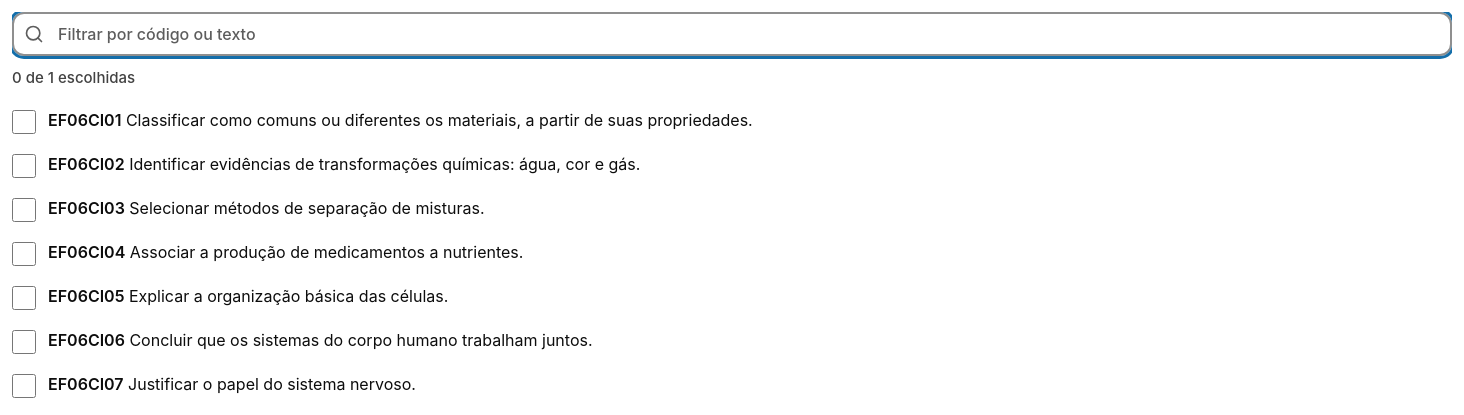
Test: a lista e o teto › o teto é o que quem usa a peça diz: com `maximo` 1 (a troca da questão), a segunda caixa bloqueia
Click the checkbox labelled "EF06CI03 Selecionar métodos de separação de misturas.": (24, 210) [12,198,36,222]
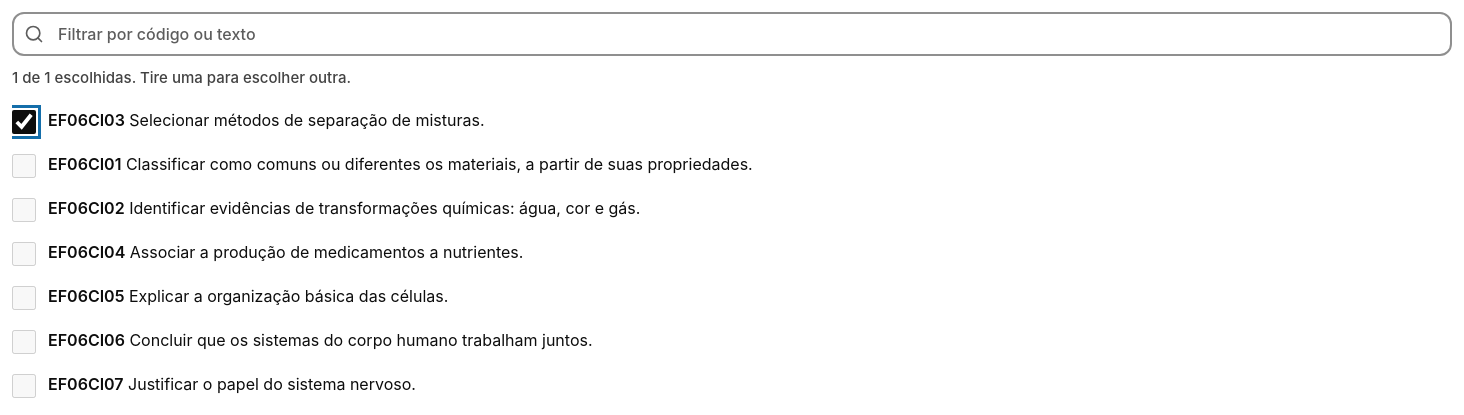
Result: the message reads "1 de 1 escolhidas. Tire uma para escolher outra." at [12,68,351,87]
